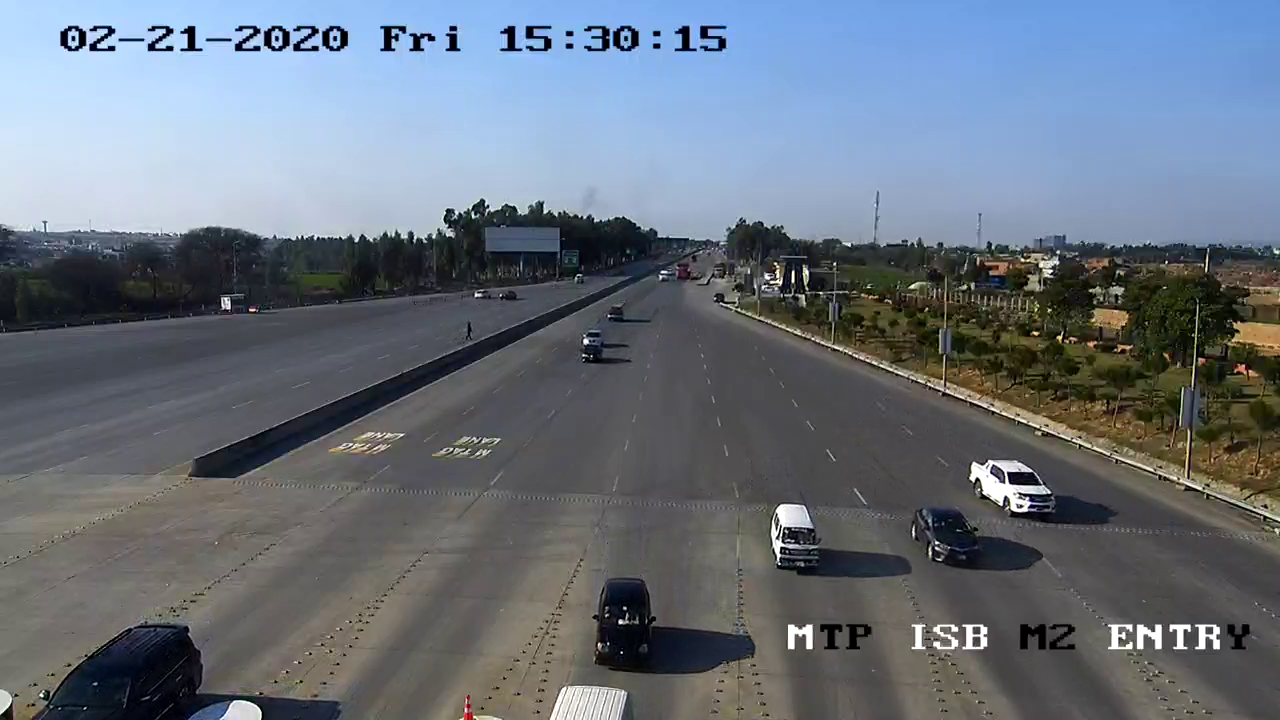f1: (578, 569, 669, 671), (959, 443, 1065, 526), (897, 494, 989, 575), (772, 502, 819, 572)
